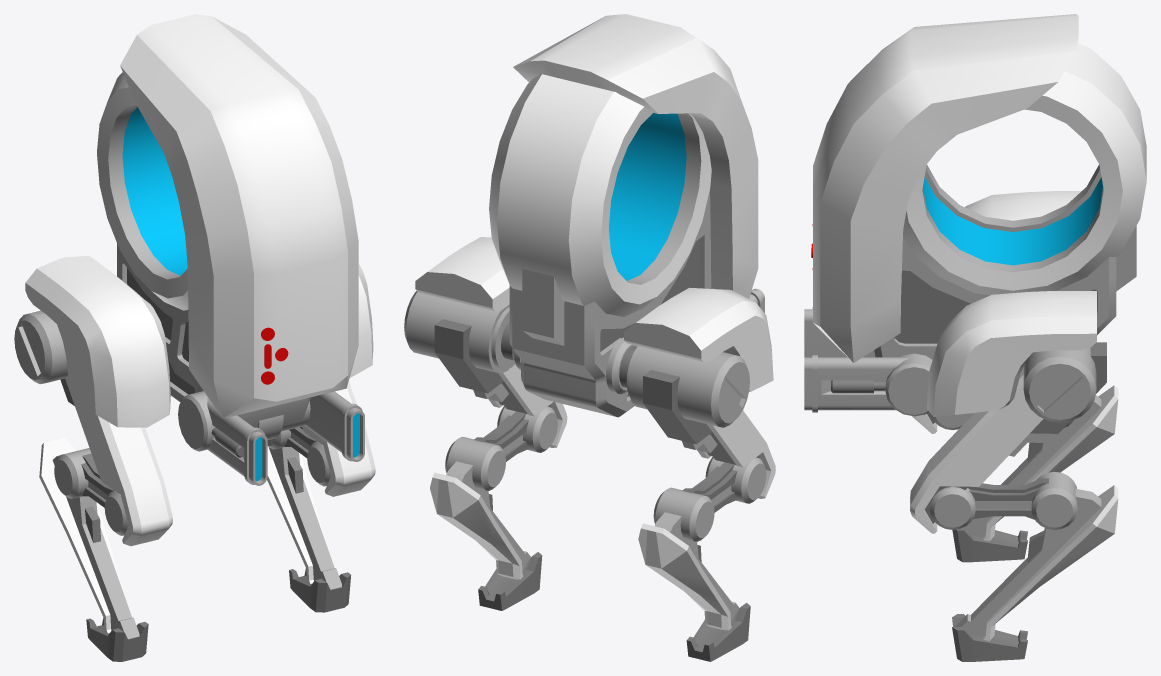
File: WalkerWithoutBone.fbx
3 views of the same model, side by side, from view 1: azimuth 30°, elevation 25°; view 2: azimuth 150°, elevation 25°; view 3: azimuth 270°, elevation 25° (orthographic). The views are drawn at different scales.
Visible parts, largest first — view 1: Head, LegPad_R, BodyRing, UpperLeg_R, LowerLeg_R, LowerLeg_L, Body, HipJoint_R, Gun_L, Gun_R, GunRoot, UpperLeg_L (+9 smaller); view 2: BodyRing, Head, Body, LegPad_R, HipJoint_R, UpperLeg_R, LowerLeg_L, LowerLeg_R, HipJoint_L, UpperLeg_L, LegPad_L, Ankle_L (+8 smaller); view 3: Head, BodyRing, LegPad_L, UpperLeg_L, Body, LowerLeg_L, LowerLeg_R, HipJoint_L, Gun_L, LegPad_R, GunRoot, Foot_L (+6 smaller).
Boxes of the visible parts, x1,y1,x2,y2 form: Head: [120, 14, 358, 418]; LegPad_R: [25, 255, 170, 427]; BodyRing: [97, 72, 188, 310]; UpperLeg_R: [60, 378, 172, 546]; LowerLeg_R: [39, 438, 139, 638]; LowerLeg_L: [267, 446, 341, 589]; Body: [117, 243, 310, 427]; HipJoint_R: [14, 310, 68, 384]; Gun_L: [305, 391, 364, 461]; Gun_R: [207, 397, 267, 485]; GunRoot: [178, 391, 310, 451]; UpperLeg_L: [302, 381, 375, 496]; BodyRing: [489, 74, 711, 316]; Head: [513, 14, 758, 298]; Body: [509, 190, 711, 417]; LegPad_R: [624, 287, 773, 391]; HipJoint_R: [626, 346, 749, 427]; UpperLeg_R: [643, 370, 775, 498]; LowerLeg_L: [430, 461, 530, 579]; LowerLeg_R: [638, 512, 739, 630]; HipJoint_L: [404, 291, 515, 373]; UpperLeg_L: [434, 319, 567, 447]; LegPad_L: [415, 237, 509, 311]; Ankle_L: [445, 436, 505, 490]; Head: [813, 14, 1078, 362]; BodyRing: [903, 43, 1146, 295]; LegPad_L: [927, 291, 1096, 417]; UpperLeg_L: [910, 342, 1106, 533]; Body: [874, 226, 1136, 359]; LowerLeg_L: [955, 485, 1118, 641]; LowerLeg_R: [964, 385, 1118, 541]; HipJoint_L: [1023, 347, 1096, 422]; Gun_L: [804, 355, 909, 412]; LegPad_R: [965, 191, 1081, 220]; GunRoot: [885, 353, 932, 416]; Foot_L: [952, 614, 1027, 661].
Bounding box in the file's own units: 3.48 × 6.22 × 3.35.
